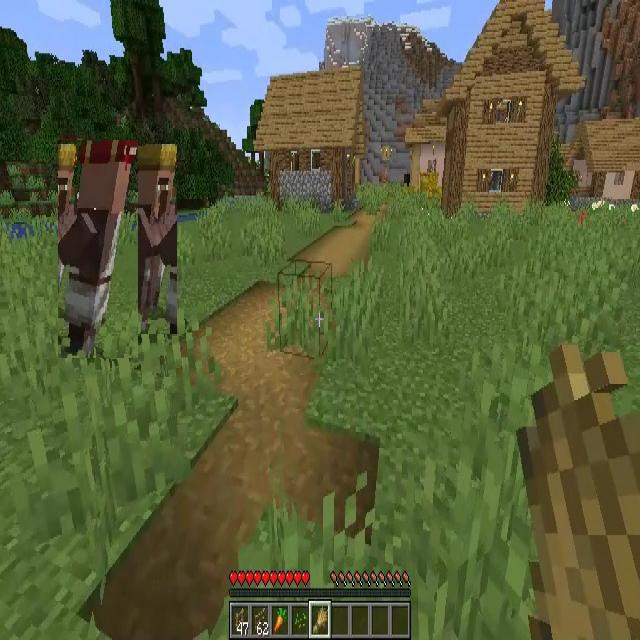people: (58, 140, 138, 358), (120, 144, 177, 334)
